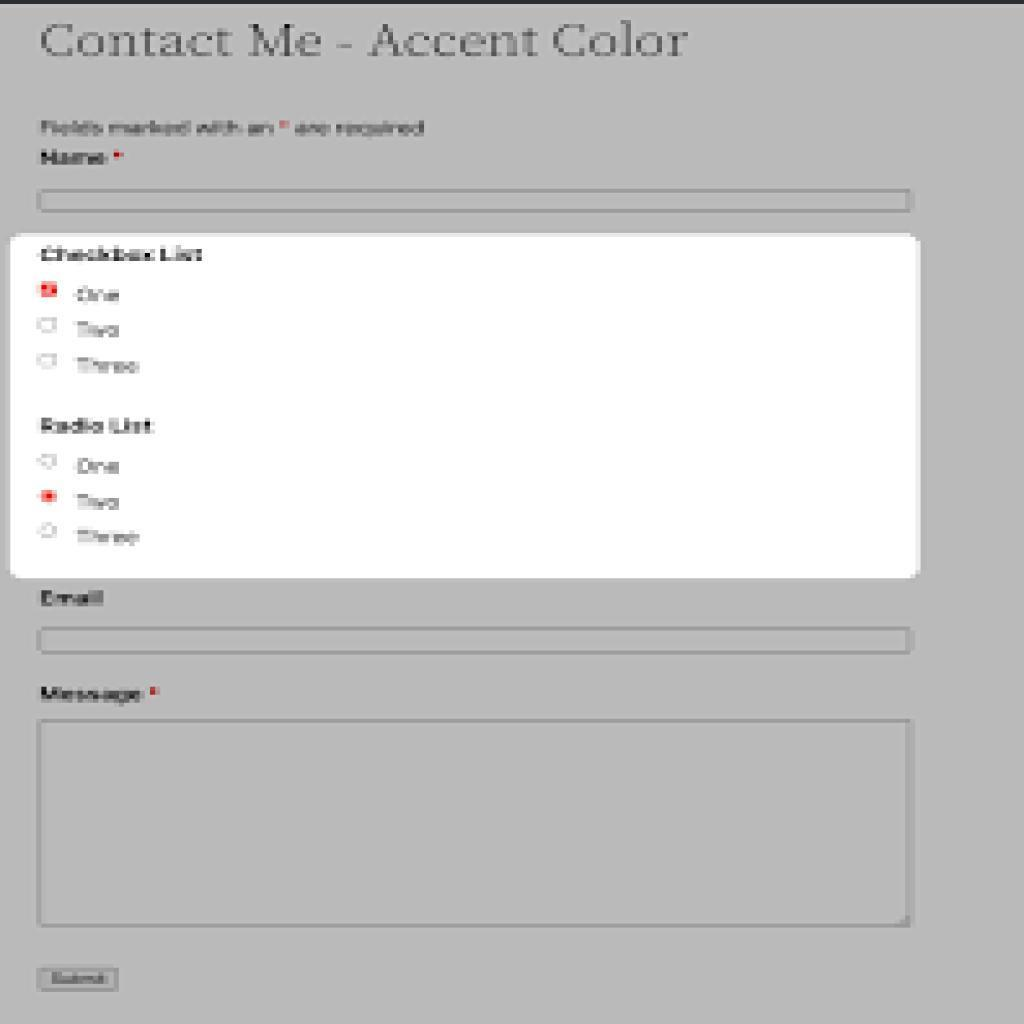button: (37, 967, 118, 992)
input: (38, 628, 915, 654), (38, 191, 910, 213)
label: (70, 526, 140, 551), (70, 356, 140, 379), (71, 282, 128, 308), (74, 318, 129, 344), (76, 455, 130, 479), (74, 492, 127, 515)
radio: (32, 521, 59, 542), (36, 313, 60, 335), (41, 278, 62, 303), (38, 453, 58, 475), (38, 486, 60, 505), (37, 353, 59, 371)
